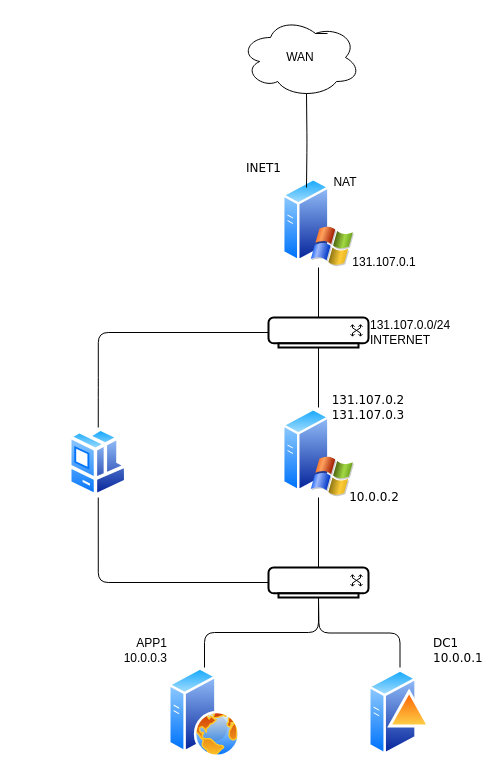
Image size: 500x775. Some labels were removed from this diagram. Each missing label, with the centre of its shape:
10.0.0.0/24 CORPNET: the point at 318,582
CLIENT1 DHCP: the point at 98,462
EDGE1: the point at 318,452
